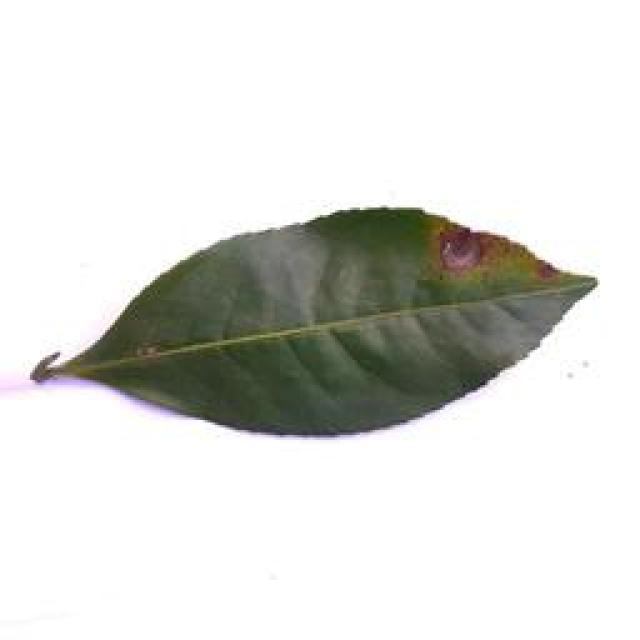Gray Blight: (30, 205, 595, 440)
